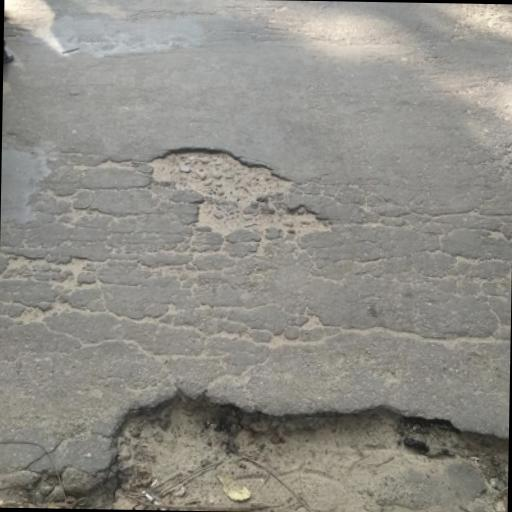pothole: (13, 378, 508, 512), (145, 142, 337, 236)
